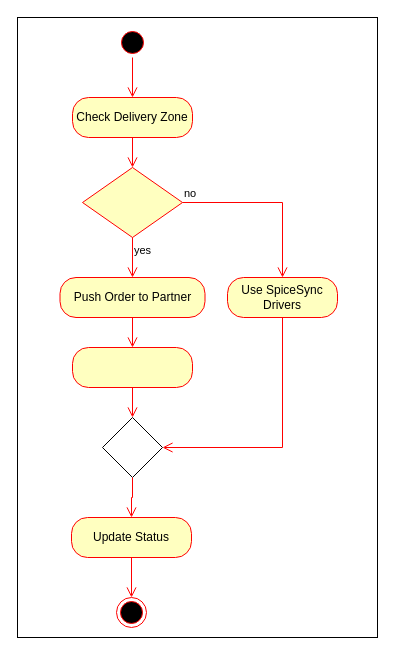
Image size: 395x655. Some labels were removed from this diagram. The shapes that lost their labels are listed below. From the top down, each one's centre as x and y in pixels, then its label:
pixel 132 202: In Coverage
pixel 132 367: Sync Tracking
